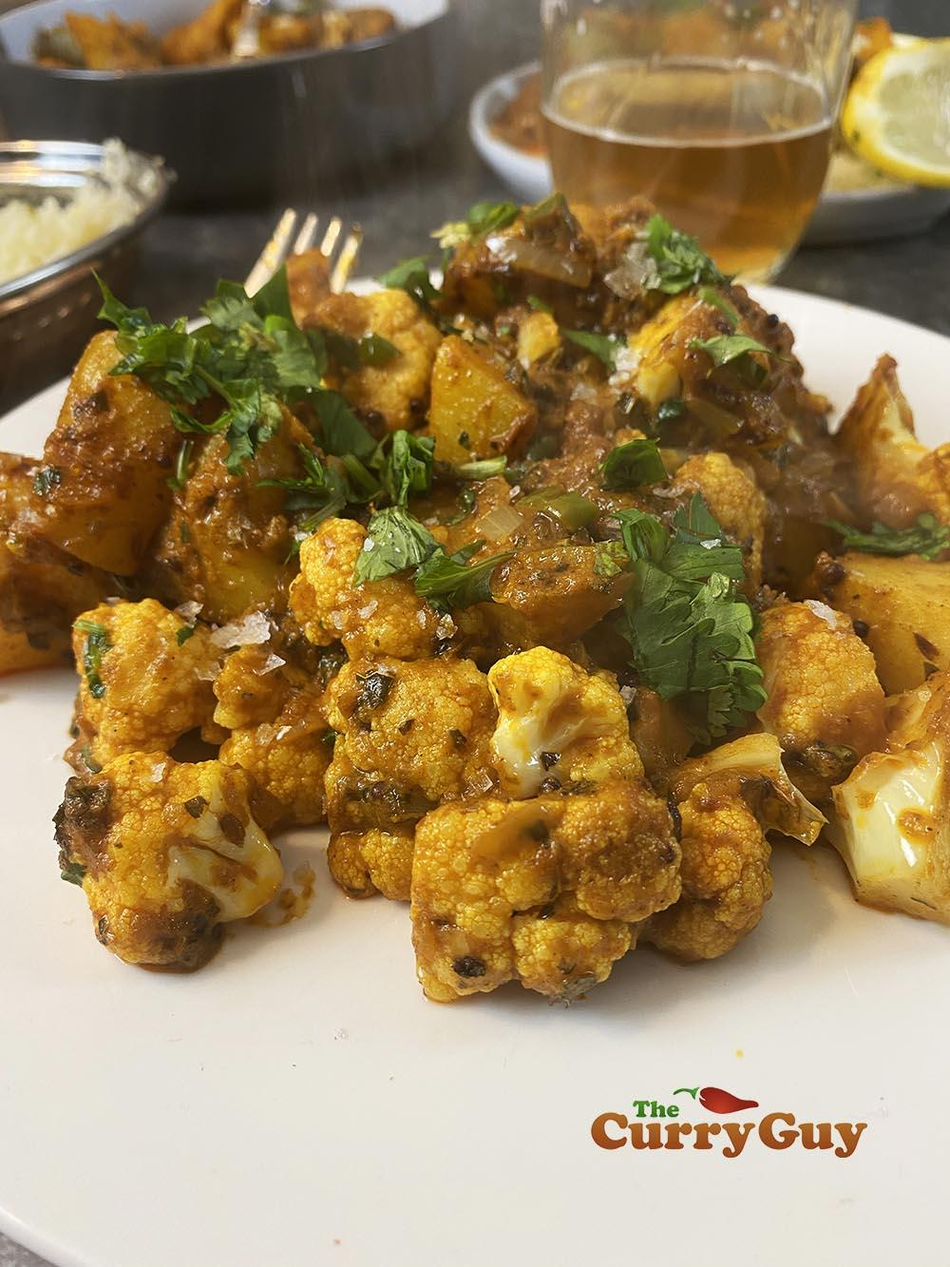aloo gobhi: (68, 248, 950, 1016)
